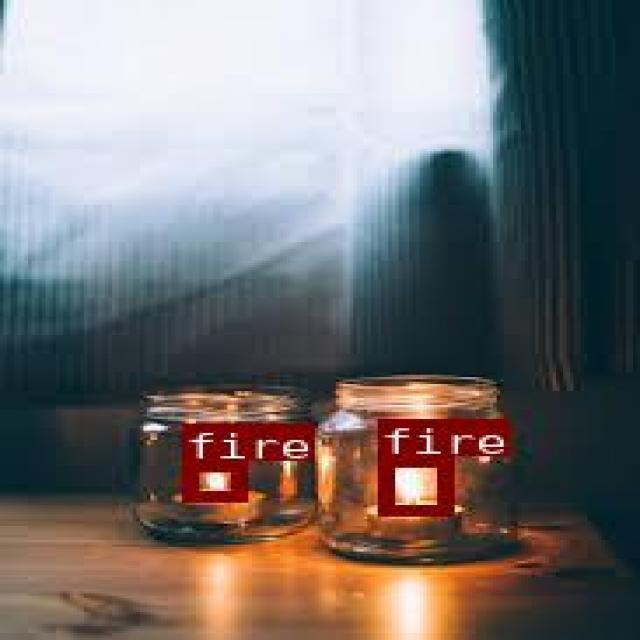fire: (374, 455, 450, 513), (179, 460, 243, 499)
